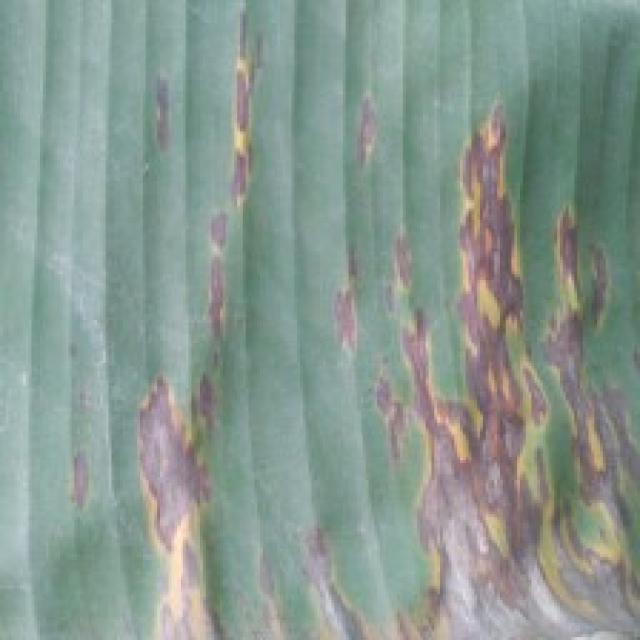Early_leaf_spot: (292, 97, 637, 640), (89, 0, 267, 640), (260, 483, 377, 640), (326, 60, 391, 187), (137, 62, 189, 177), (46, 443, 100, 517)
